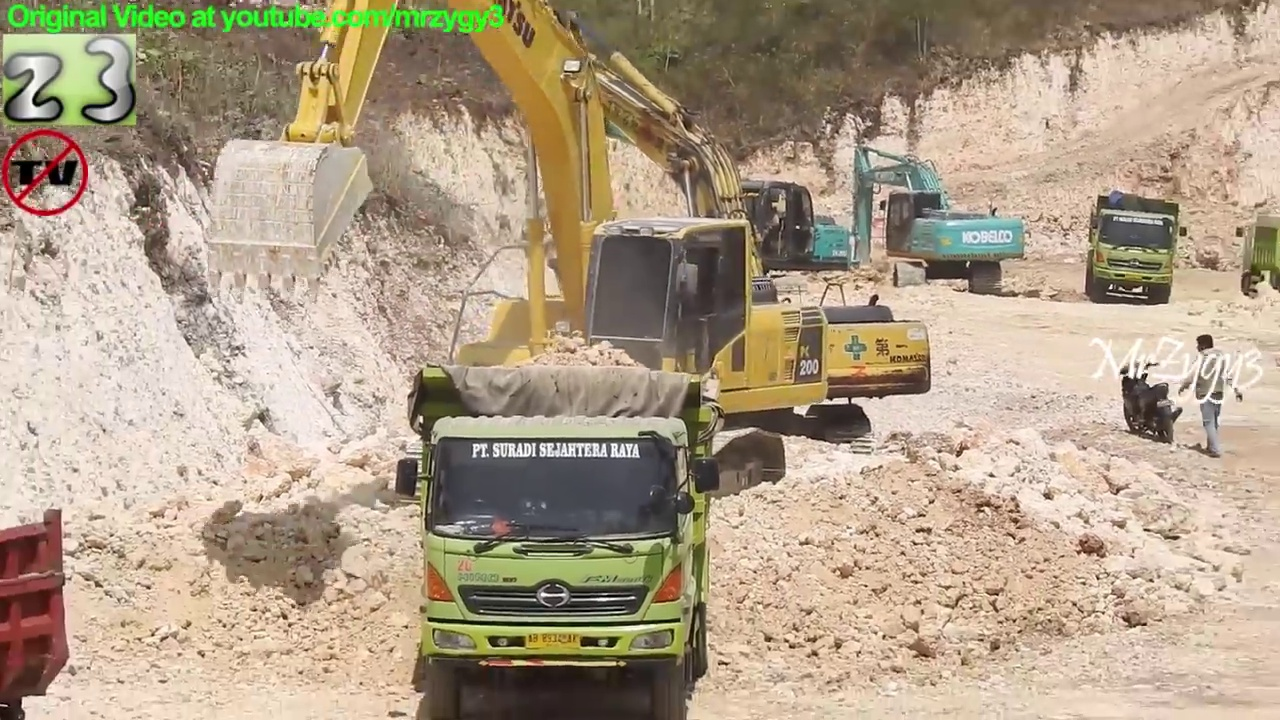excavator: (198, 1, 837, 517), (496, 6, 938, 472), (515, 83, 861, 302), (831, 140, 1034, 302)
truck: (392, 358, 727, 720), (1, 503, 77, 720), (1082, 188, 1192, 310), (1231, 210, 1280, 303)
